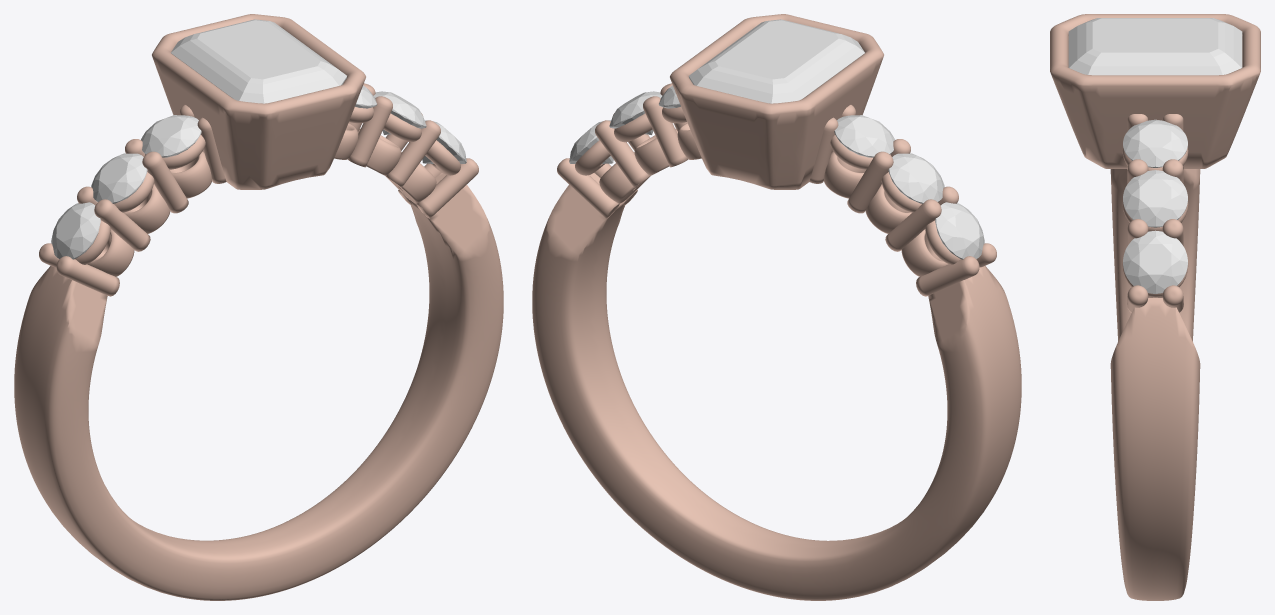
The model's file is diamond-emerald-rosegold-bezelset-straighttaperedband-7stone.glb.
The picture shows the model from 3 angles, left to right: view 1: azimuth 30°, elevation 25°; view 2: azimuth 150°, elevation 25°; view 3: azimuth 270°, elevation 25°; orthographic projection.
Parts seen in each view (by area): view 1: metal.001, stone.001, side.006, side.007, side.008, side.010; view 2: metal.001, stone.001, side.006, side.007, side.008, side.010; view 3: metal.001, stone.001, side.011, side.010, side.009.
Boxes of the visible parts, x1,y1,x2,y2 form: metal.001: (14,14,503,600); stone.001: (171,19,346,103); side.006: (51,202,100,259); side.007: (91,153,147,203); side.008: (141,115,201,157); side.010: (373,91,426,134); metal.001: (532,14,1021,600); stone.001: (689,19,864,103); side.006: (935,202,984,259); side.007: (888,153,944,203); side.008: (834,115,894,157); side.010: (609,91,662,134); metal.001: (1050,14,1260,600); stone.001: (1068,18,1242,75); side.011: (1123,230,1187,293); side.010: (1123,170,1187,227); side.009: (1123,119,1187,167).
Size of the model in its own units: 20.51 by 22.94 by 8.11.
